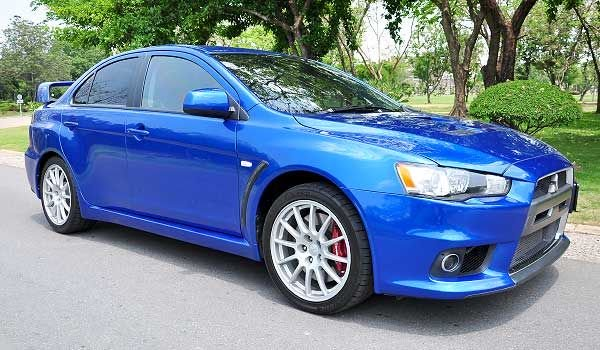sedan: (23, 42, 582, 316)
